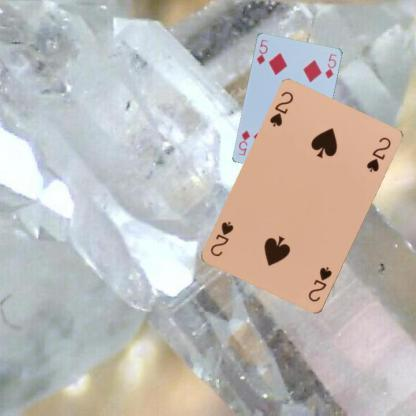2s: (306, 264, 334, 304), (268, 89, 295, 128)
5d: (254, 36, 270, 66)
